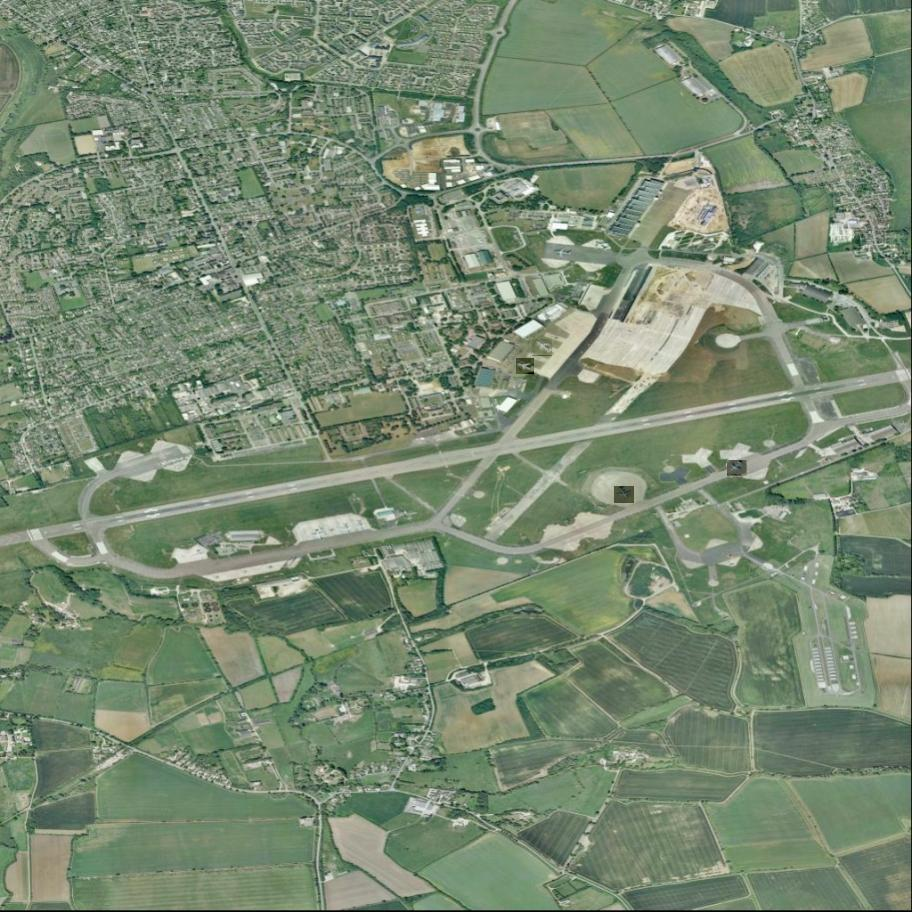plane: (727, 459, 748, 479), (532, 338, 552, 357), (614, 486, 634, 504), (516, 358, 534, 376)
